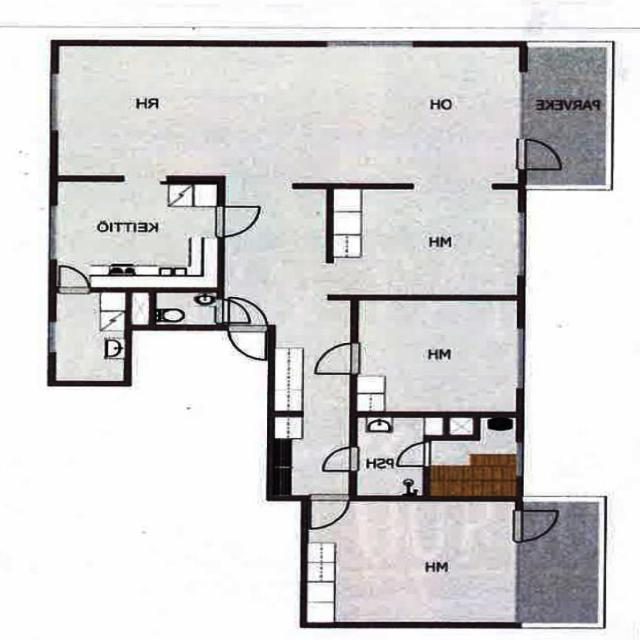door: (519, 510, 569, 540), (520, 138, 568, 168), (309, 344, 357, 374), (218, 206, 265, 236), (229, 297, 267, 331), (311, 496, 349, 529), (229, 326, 267, 358), (218, 299, 257, 323), (317, 447, 357, 470), (393, 442, 431, 466), (60, 265, 89, 291)
